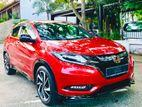car: (3, 19, 134, 106)
